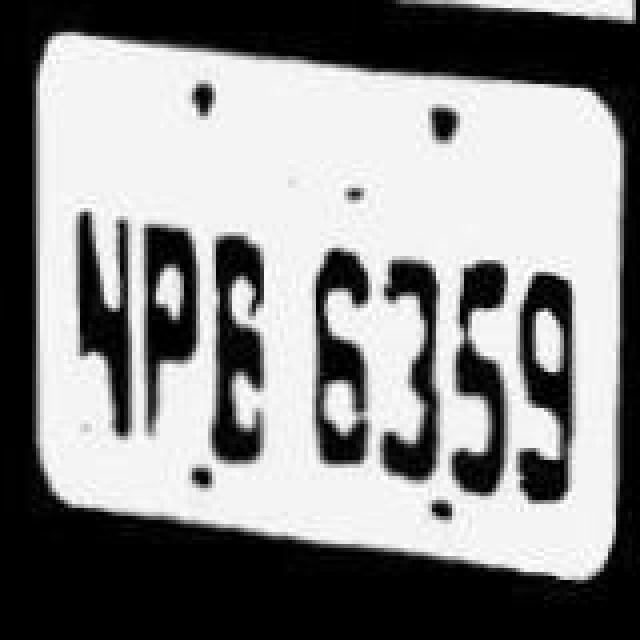3: (372, 246, 452, 482)
5: (440, 222, 520, 506)
6: (288, 240, 376, 484)
9: (510, 246, 590, 522)
B: (200, 226, 288, 470)
N: (58, 194, 142, 478)
P: (128, 196, 208, 460)
